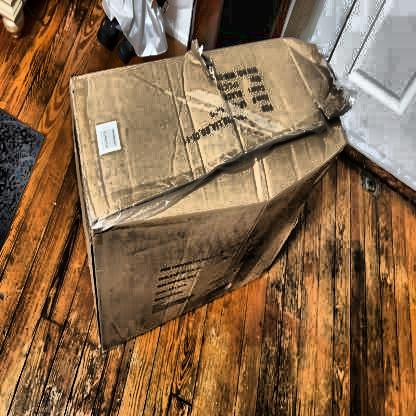defect parcel: (148, 27, 354, 356)
